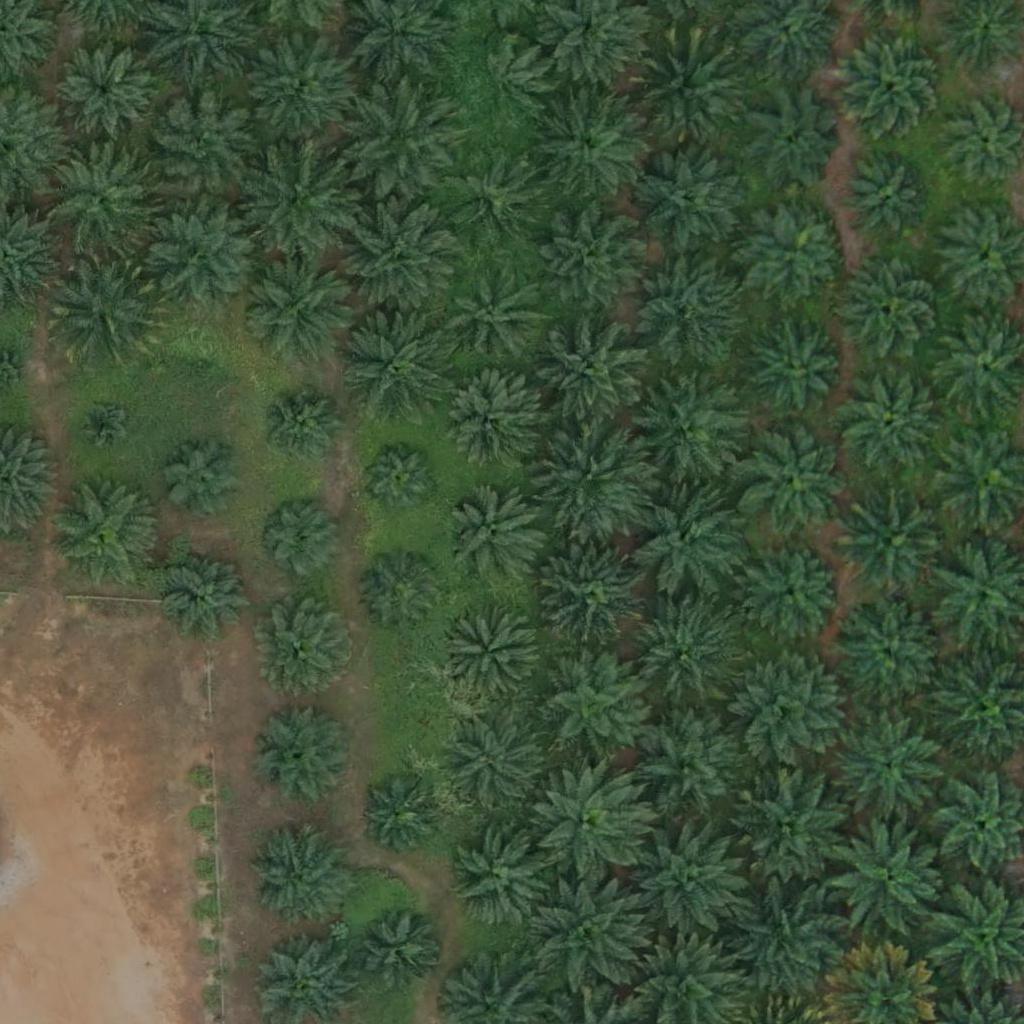Kelapa_Sawit: (339, 301, 452, 415), (242, 32, 355, 146), (239, 142, 352, 256), (835, 28, 948, 141), (634, 141, 747, 254), (630, 251, 743, 364), (530, 88, 643, 201), (536, 205, 649, 318), (244, 252, 357, 365), (146, 92, 259, 205), (538, 423, 651, 536), (539, 540, 652, 653), (635, 371, 748, 484), (632, 485, 745, 598), (626, 596, 739, 709), (634, 711, 747, 824), (734, 651, 847, 764), (737, 765, 850, 878), (736, 883, 849, 996), (536, 316, 648, 430), (343, 82, 455, 196), (345, 199, 457, 313), (49, 477, 161, 591), (534, 880, 646, 994), (48, 253, 160, 366), (631, 36, 743, 149), (151, 199, 263, 312), (46, 143, 158, 256), (534, 649, 646, 762), (533, 770, 645, 883), (636, 822, 748, 935), (739, 425, 851, 538), (834, 364, 946, 477), (841, 491, 953, 604), (834, 597, 946, 710), (834, 716, 946, 829), (831, 822, 943, 935), (840, 259, 940, 360), (745, 92, 845, 193), (746, 202, 846, 303), (743, 316, 843, 417), (55, 40, 155, 141), (247, 824, 347, 925), (439, 373, 539, 474), (445, 485, 545, 586), (440, 603, 540, 704), (745, 542, 845, 643), (443, 149, 543, 249), (447, 268, 547, 368), (257, 598, 357, 698), (252, 705, 352, 805), (450, 717, 550, 817), (452, 830, 552, 930), (844, 154, 932, 242), (460, 39, 548, 127), (166, 550, 254, 638), (160, 435, 247, 523), (259, 385, 346, 473), (256, 494, 343, 582), (358, 549, 445, 637), (356, 905, 443, 993), (363, 777, 438, 853), (361, 441, 436, 516), (78, 399, 128, 450), (175, 336, 225, 386)
